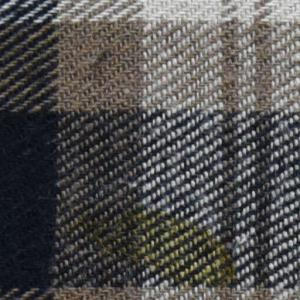Oil Stain: (64, 196, 243, 294)
